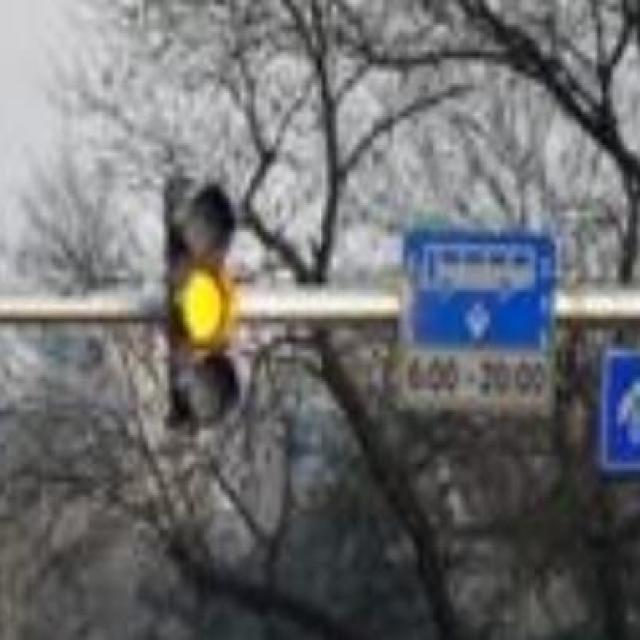yellow_light: (166, 183, 238, 425)
